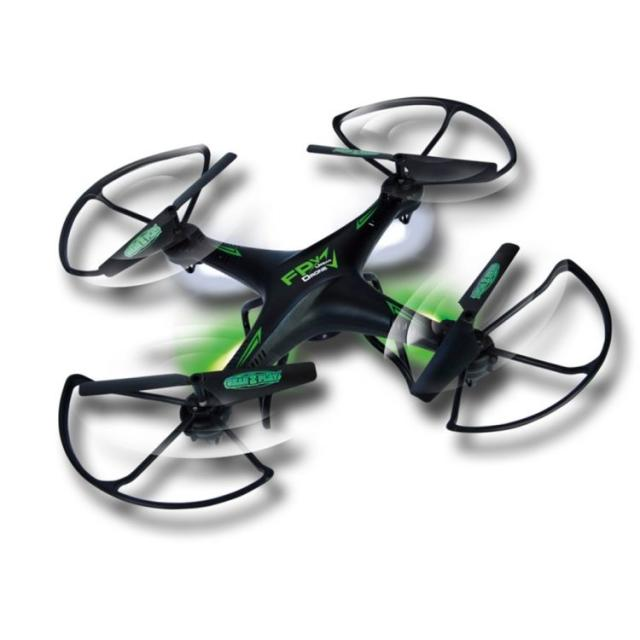drone: (27, 96, 624, 520)
